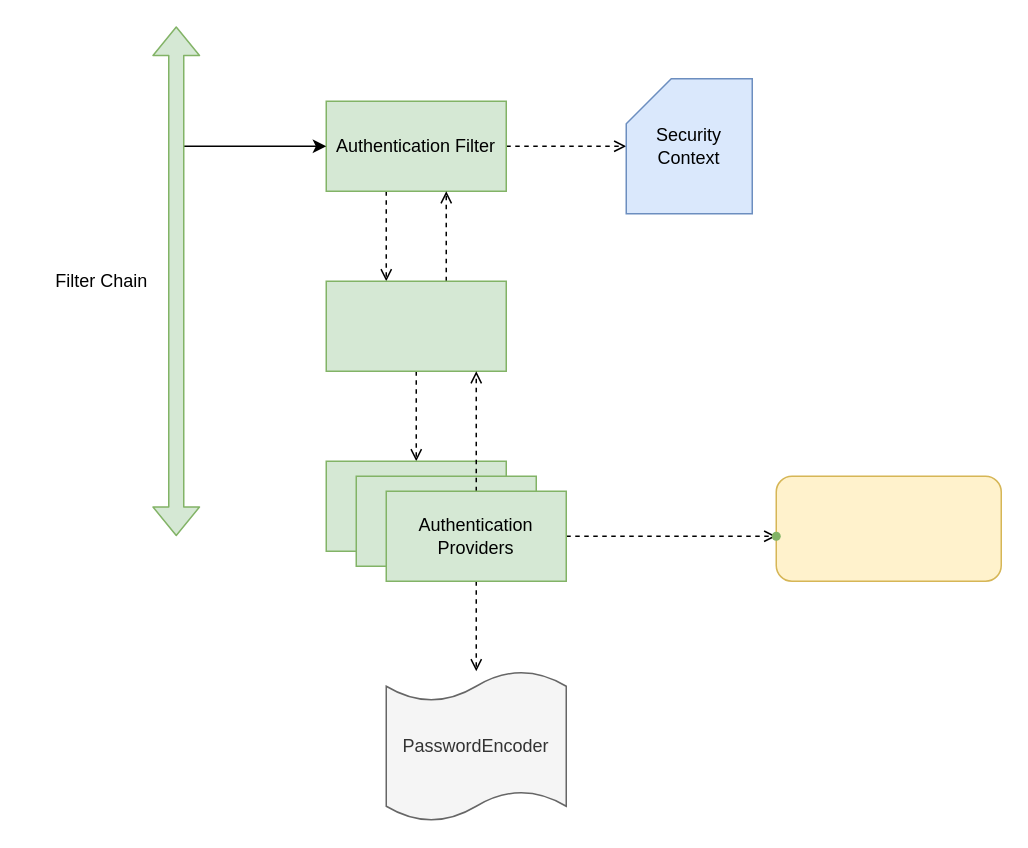
The diagram is 1028 pixels wide and 848 high, and some of its shapes have lost their labels. Each missing label, with the box of its shape:
Authentication Manager: (325, 280, 506, 371)
UserDetailsService: (775, 475, 1001, 581)
